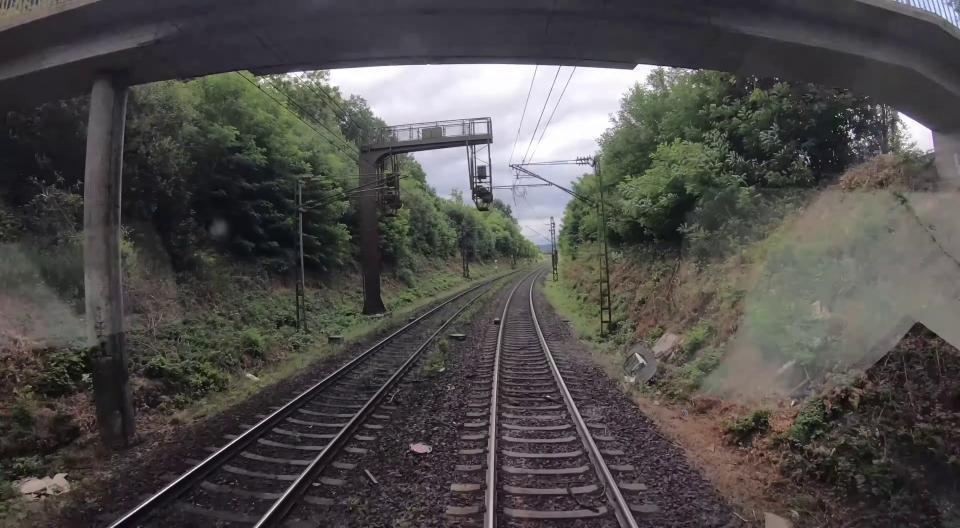Plant: (453, 279, 506, 327), (421, 338, 450, 377), (357, 366, 380, 390)
